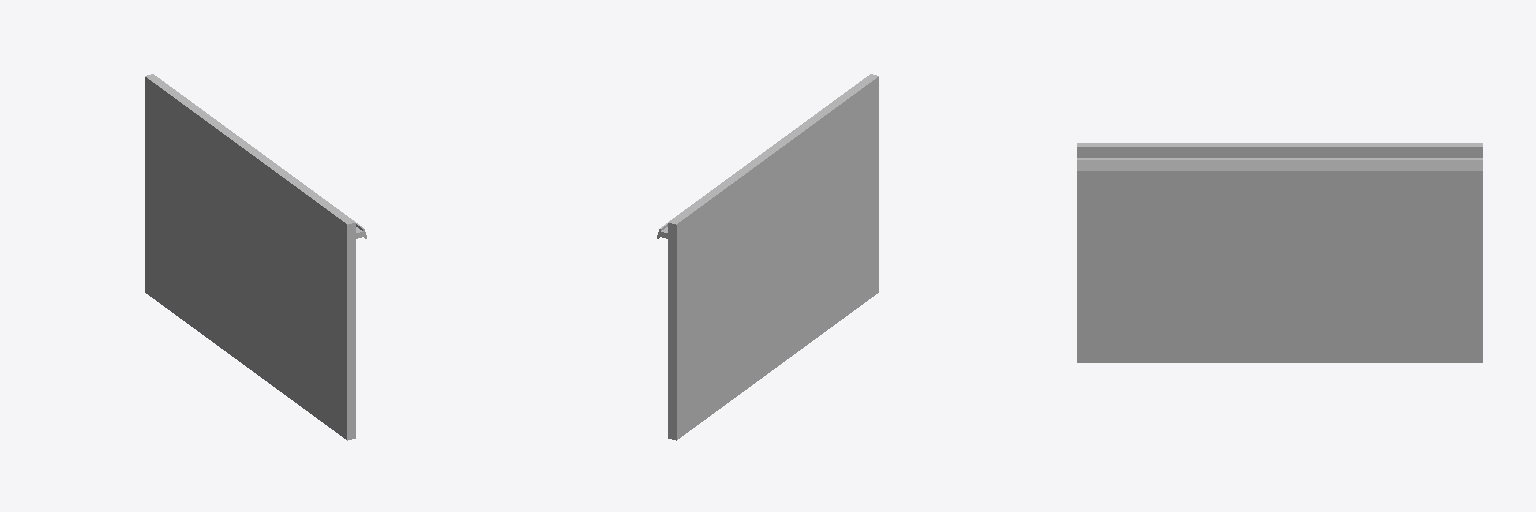
File: dof_rootd_Ba001_r.processed.obj
3 views of the same model, side by side, from view 1: azimuth 30°, elevation 25°; view 2: azimuth 150°, elevation 25°; view 3: azimuth 270°, elevation 25° (orthographic).
Size of the model in its own units: 0.0472 by 0.4913 by 0.8353.